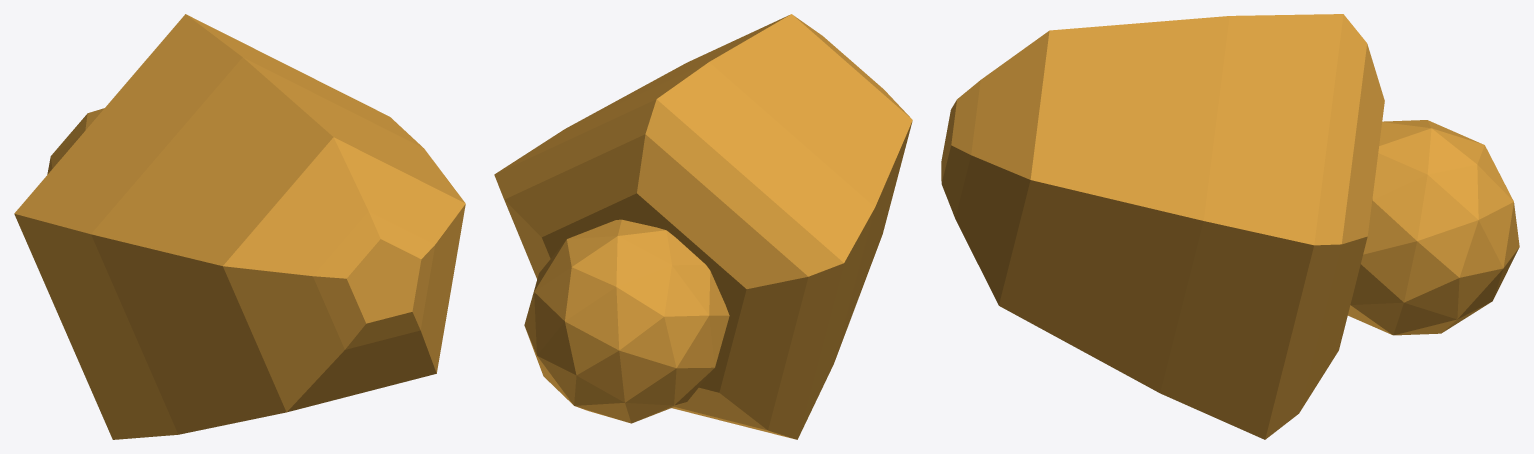
The model's file is LowerLeg_Right.fbx.
The picture shows the model from 3 angles, left to right: view 1: azimuth 30°, elevation 25°; view 2: azimuth 150°, elevation 25°; view 3: azimuth 270°, elevation 25°; orthographic projection. The views are drawn at different scales.
Parts seen in each view (by area): view 1: LowerLeg_Right; view 2: LowerLeg_Right; view 3: LowerLeg_Right.
Part boxes in pixels (left/top/right/bottom): LowerLeg_Right: left=14, top=14, right=465, bottom=439; LowerLeg_Right: left=494, top=14, right=912, bottom=439; LowerLeg_Right: left=941, top=14, right=1519, bottom=439.
Size of the model in its own units: 56.66 by 53.09 by 75.25.
